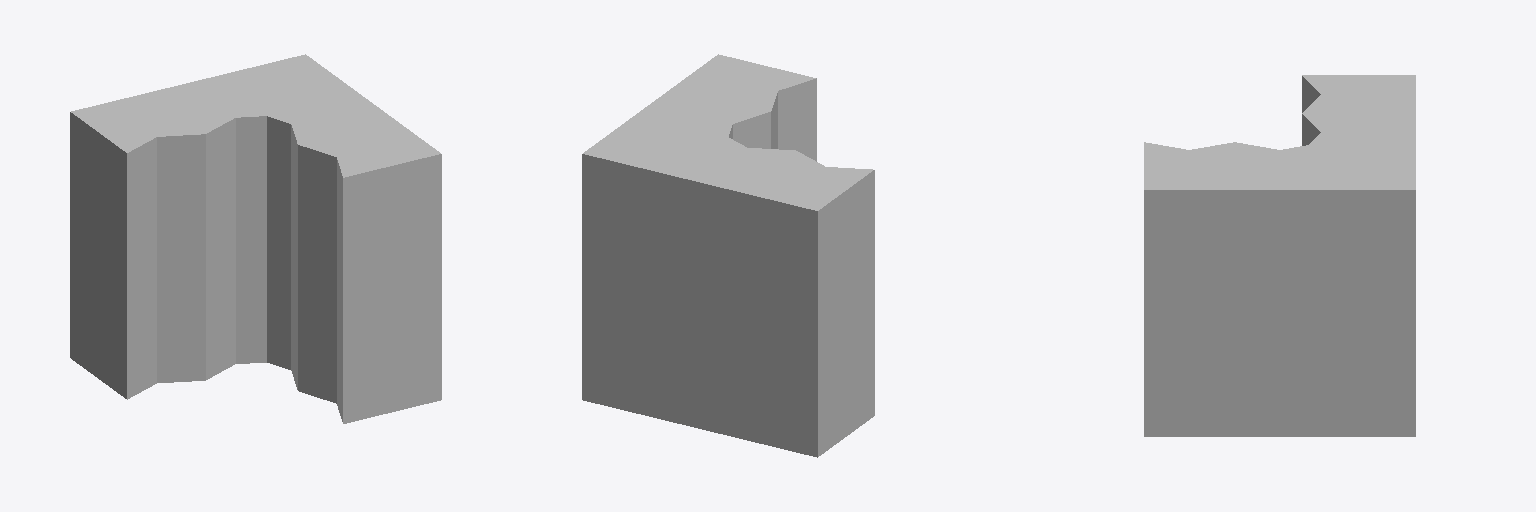
File: cliff_cornerInnerLarge_stone.obj
The picture shows the model from 3 angles: view 1: azimuth 30°, elevation 25°; view 2: azimuth 150°, elevation 25°; view 3: azimuth 270°, elevation 25°; orthographic projection.
Parts seen in each view (by area): view 1: cliff_cornerInnerLarge_stone; view 2: cliff_cornerInnerLarge_stone; view 3: cliff_cornerInnerLarge_stone.
Part boxes in pixels (x1,y1,x2,y2): cliff_cornerInnerLarge_stone: (70,54,441,423); cliff_cornerInnerLarge_stone: (582,54,874,457); cliff_cornerInnerLarge_stone: (1144,75,1415,436).
Bounding box in the file's own units: 1 × 1 × 1.